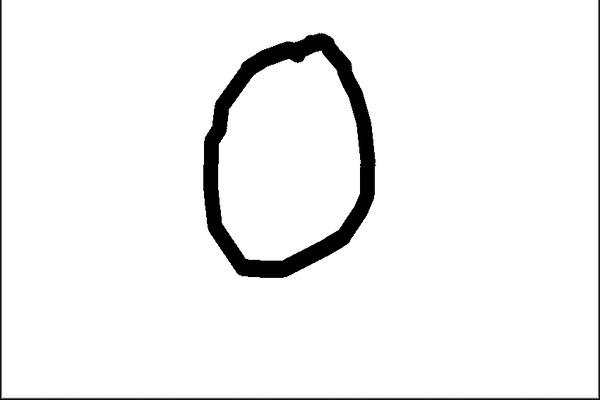O: (173, 21, 385, 286)
